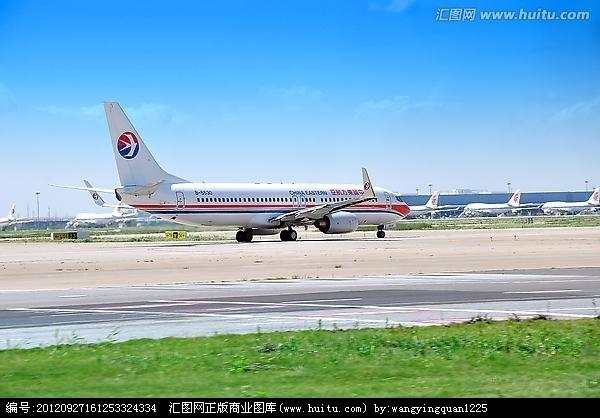airplane: (35, 97, 413, 241)
